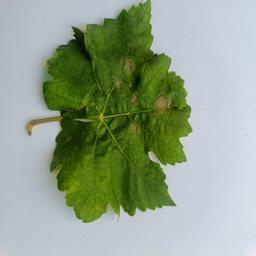Powdery-Mildew: (68, 176, 103, 220), (149, 88, 177, 120), (108, 74, 125, 91), (126, 124, 143, 141), (125, 90, 141, 107), (121, 56, 137, 72)
